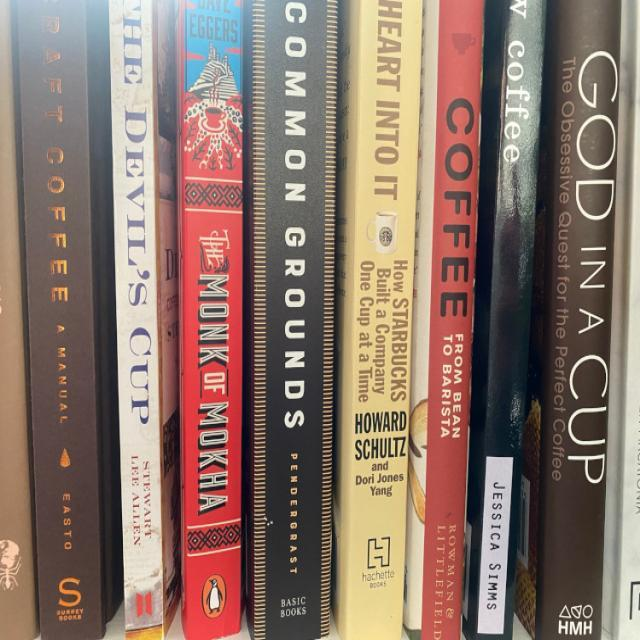book: (14, 2, 102, 639), (251, 0, 338, 639), (540, 0, 620, 639), (344, 0, 422, 640), (471, 0, 548, 640), (419, 0, 482, 639), (184, 0, 240, 639), (111, 0, 164, 640)
